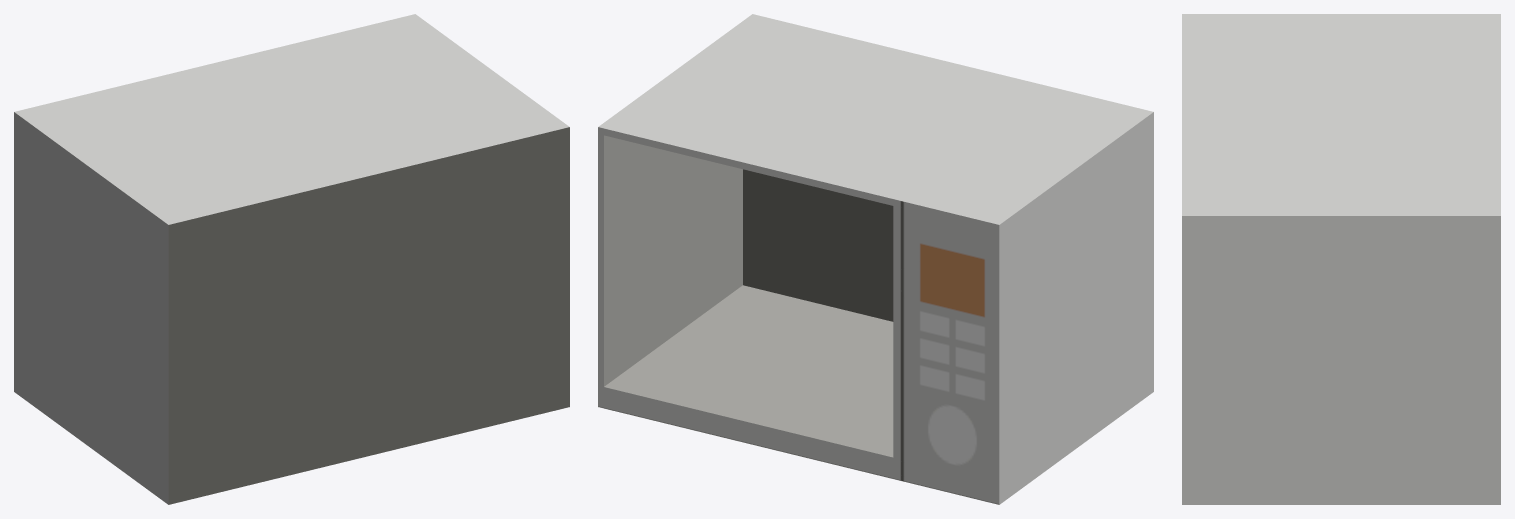
The model's file is mw_hako.fbx.
3 renders of one model, left to right at view 1: azimuth 30°, elevation 25°; view 2: azimuth 150°, elevation 25°; view 3: azimuth 270°, elevation 25°, orthographic. The views are drawn at different scales.
Parts seen in each view (by area): view 1: hako; view 2: hako; view 3: hako.
Part boxes in pixels (box(x1,y1,x2,y2)): hako: box(14, 14, 569, 504); hako: box(598, 14, 1153, 504); hako: box(1182, 14, 1500, 504).
Size of the model in its own units: 600 by 400 by 400.
1 material, 1 textured.
